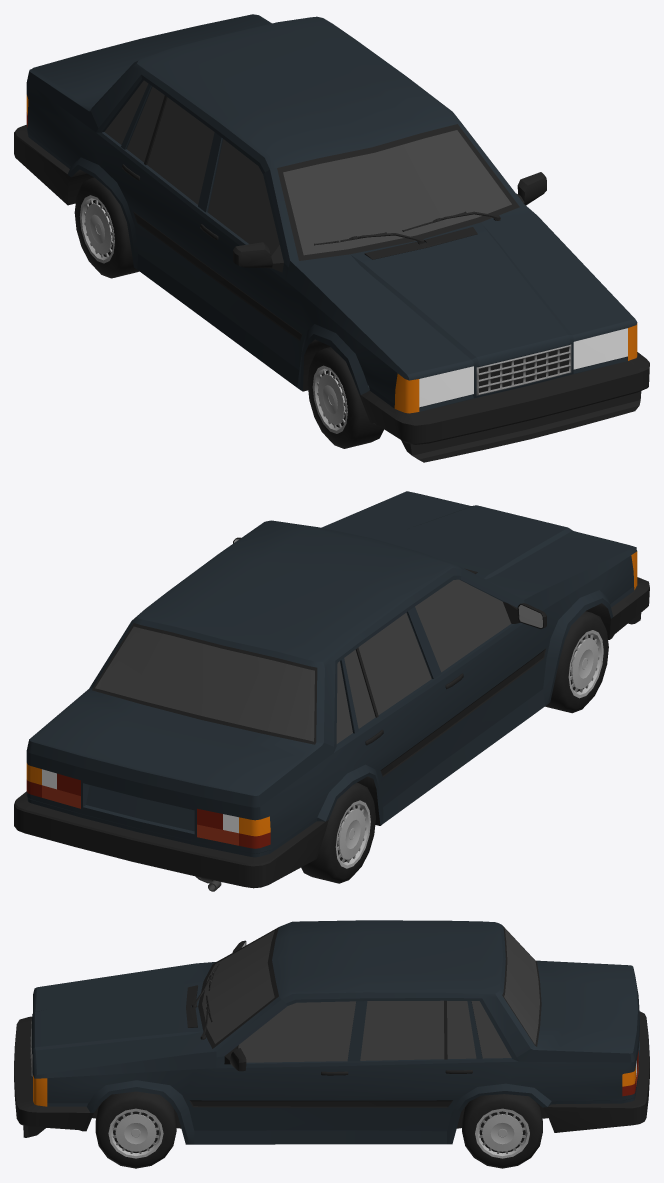
The model's file is car2.fbx.
3 views of the same model, one above another, from view 1: azimuth 30°, elevation 25°; view 2: azimuth 150°, elevation 25°; view 3: azimuth 270°, elevation 25° (orthographic). The views are drawn at different scales.
Parts seen in each view (by area): view 1: car2; view 2: car2; view 3: car2.
Boxes of the visible parts, x1=… form: car2: x1=14, y1=14, x2=649, y2=462; car2: x1=14, y1=491, x2=649, y2=891; car2: x1=14, y1=920, x2=649, y2=1168.
Size of the model in its own units: 213 by 139 by 478.
1 material, 1 textured.
